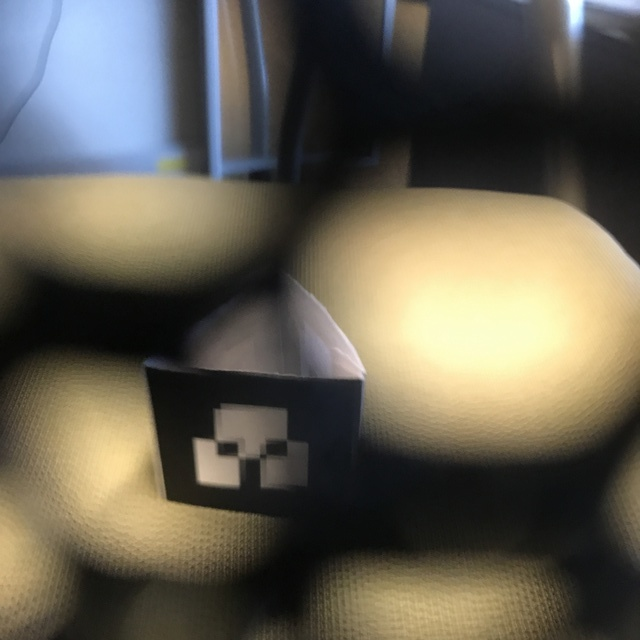ARTag: (143, 264, 365, 535)
